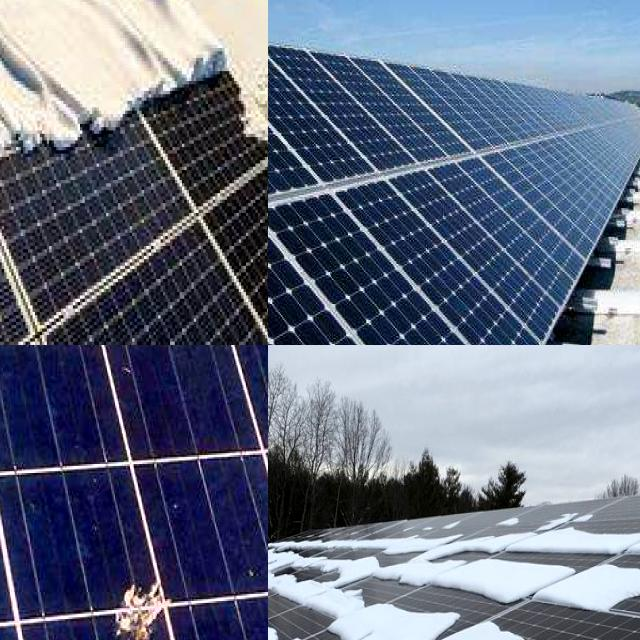bird: (108, 568, 181, 640)
crack: (268, 25, 640, 345)
panel: (45, 78, 206, 155), (0, 26, 83, 162), (102, 2, 228, 82), (277, 534, 382, 596), (227, 58, 267, 199), (400, 522, 470, 600), (0, 0, 68, 78), (532, 569, 621, 628), (464, 499, 544, 561), (456, 558, 531, 614), (554, 528, 640, 570), (268, 600, 346, 640), (340, 603, 422, 640), (0, 0, 51, 59), (425, 613, 534, 640), (268, 554, 301, 615), (268, 535, 296, 595), (556, 501, 600, 539)
